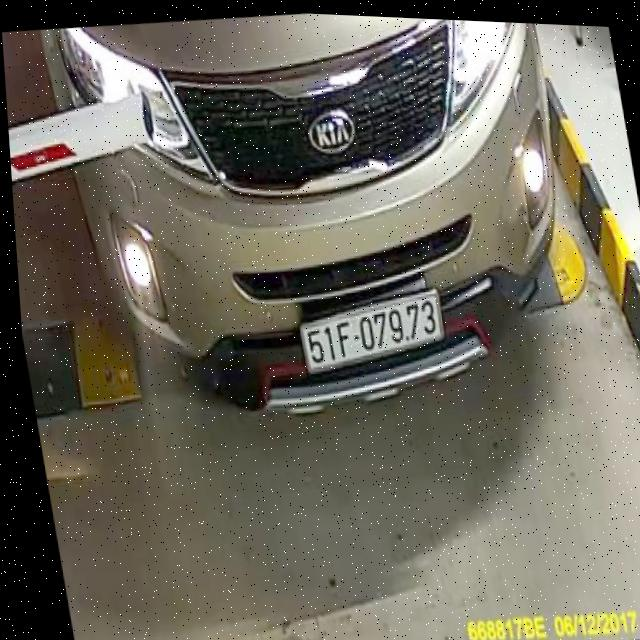car: (30, 1, 617, 466)
plate: (296, 287, 459, 375)
